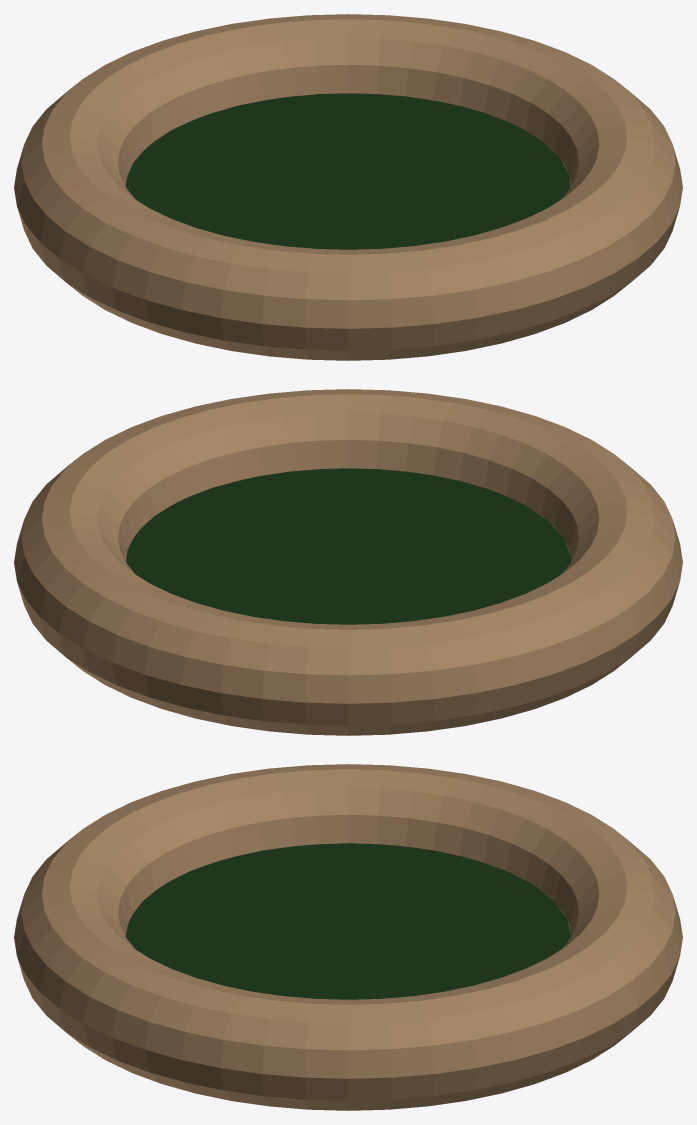
Rendered from mounting_hole.glb.
3 views of the same model, one above another, from view 1: azimuth 30°, elevation 25°; view 2: azimuth 150°, elevation 25°; view 3: azimuth 270°, elevation 25° (orthographic).
Parts seen in each view (by area): view 1: Annular_Ring, Hole_Interior; view 2: Annular_Ring, Hole_Interior; view 3: Annular_Ring, Hole_Interior.
Part boxes in pixels (box(x1,y1,x2,y2)): Annular_Ring: box(14, 14, 682, 360); Hole_Interior: box(126, 93, 570, 249); Annular_Ring: box(14, 389, 682, 735); Hole_Interior: box(126, 468, 570, 624); Annular_Ring: box(14, 764, 682, 1110); Hole_Interior: box(125, 843, 571, 999).
Size of the model in its own units: 0.24 by 0.04 by 0.24.
